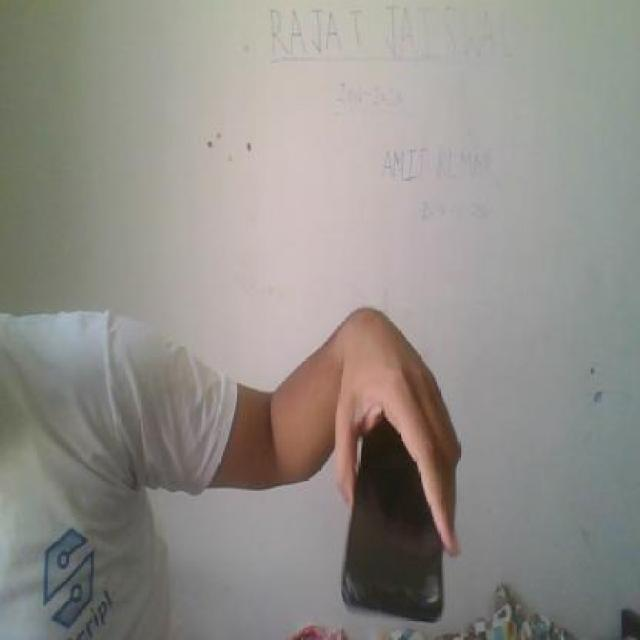Phone: (335, 421, 448, 627)
